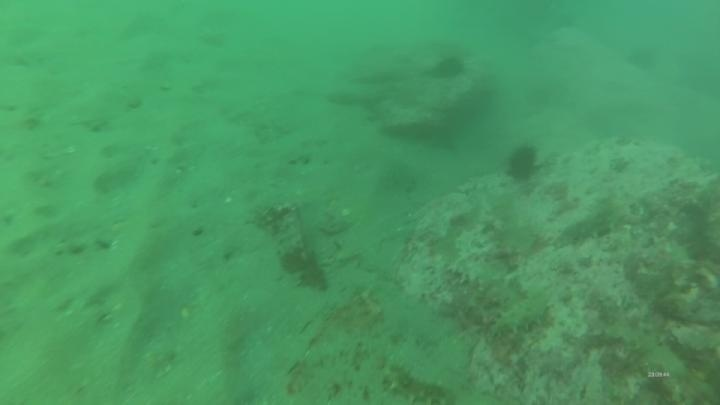echinus: (503, 142, 541, 184), (623, 42, 661, 74), (431, 53, 468, 82)
holothurian: (553, 192, 635, 248), (377, 358, 454, 405), (489, 290, 554, 339)
